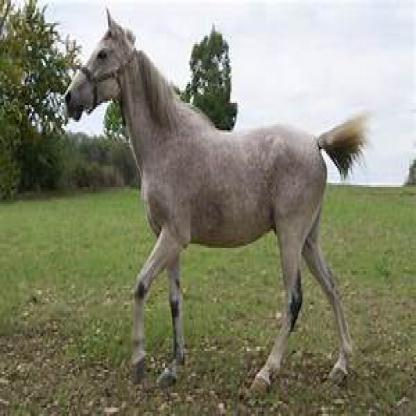horse: (65, 6, 366, 393)
